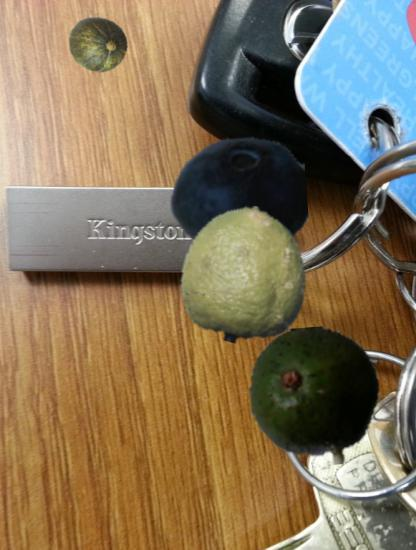Avocado: (247, 327, 386, 466)
Blueberry: (170, 130, 307, 267)
Limes: (177, 206, 316, 345)
Melon: (67, 13, 131, 77)
